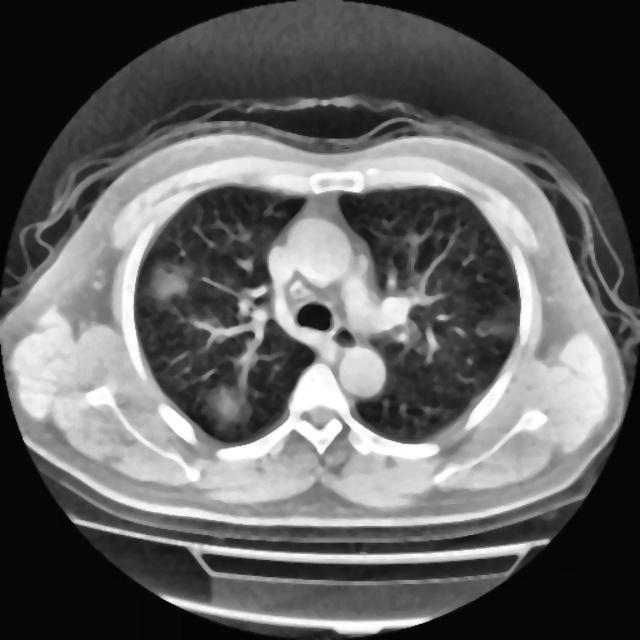covid: (1, 91, 637, 635)
